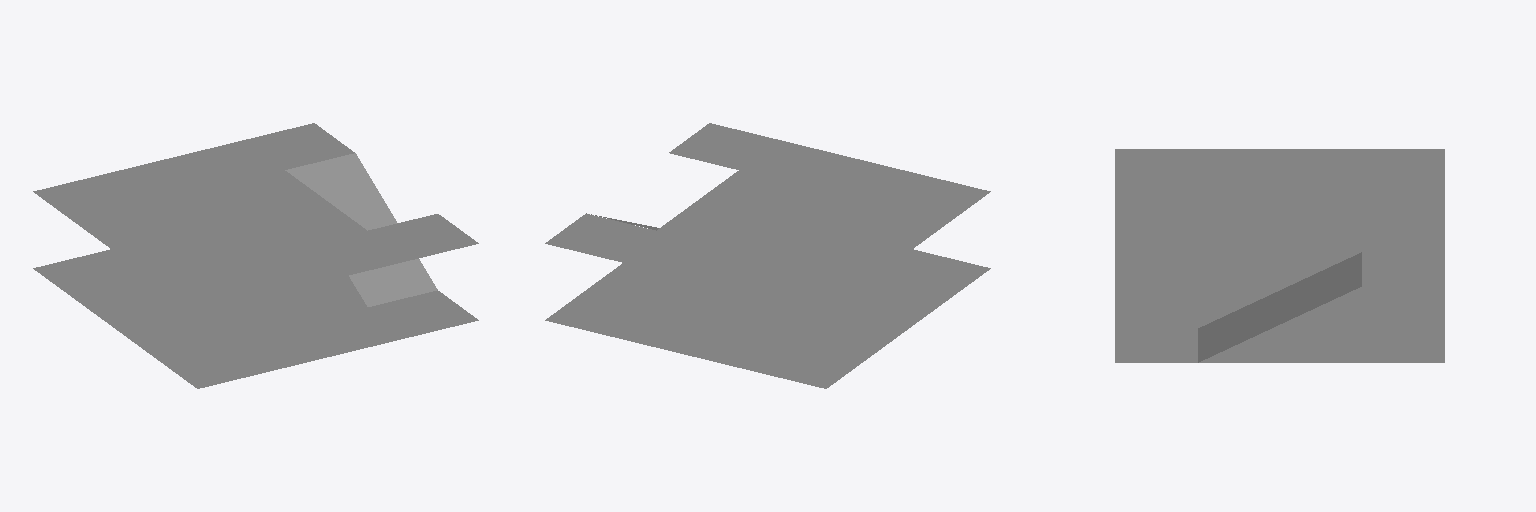
File: floors.obj
3 views of the same model, side by side, from view 1: azimuth 30°, elevation 25°; view 2: azimuth 150°, elevation 25°; view 3: azimuth 270°, elevation 25° (orthographic).
Visible parts, largest first — view 1: Plane003; view 2: Plane003; view 3: Plane003.
Part boxes in pixels (x1,y1,x2,y2): Plane003: (33, 123, 478, 388); Plane003: (545, 123, 990, 388); Plane003: (1115, 149, 1444, 362).
Bounding box in the file's own units: 19.78 × 5.16 × 20.06.